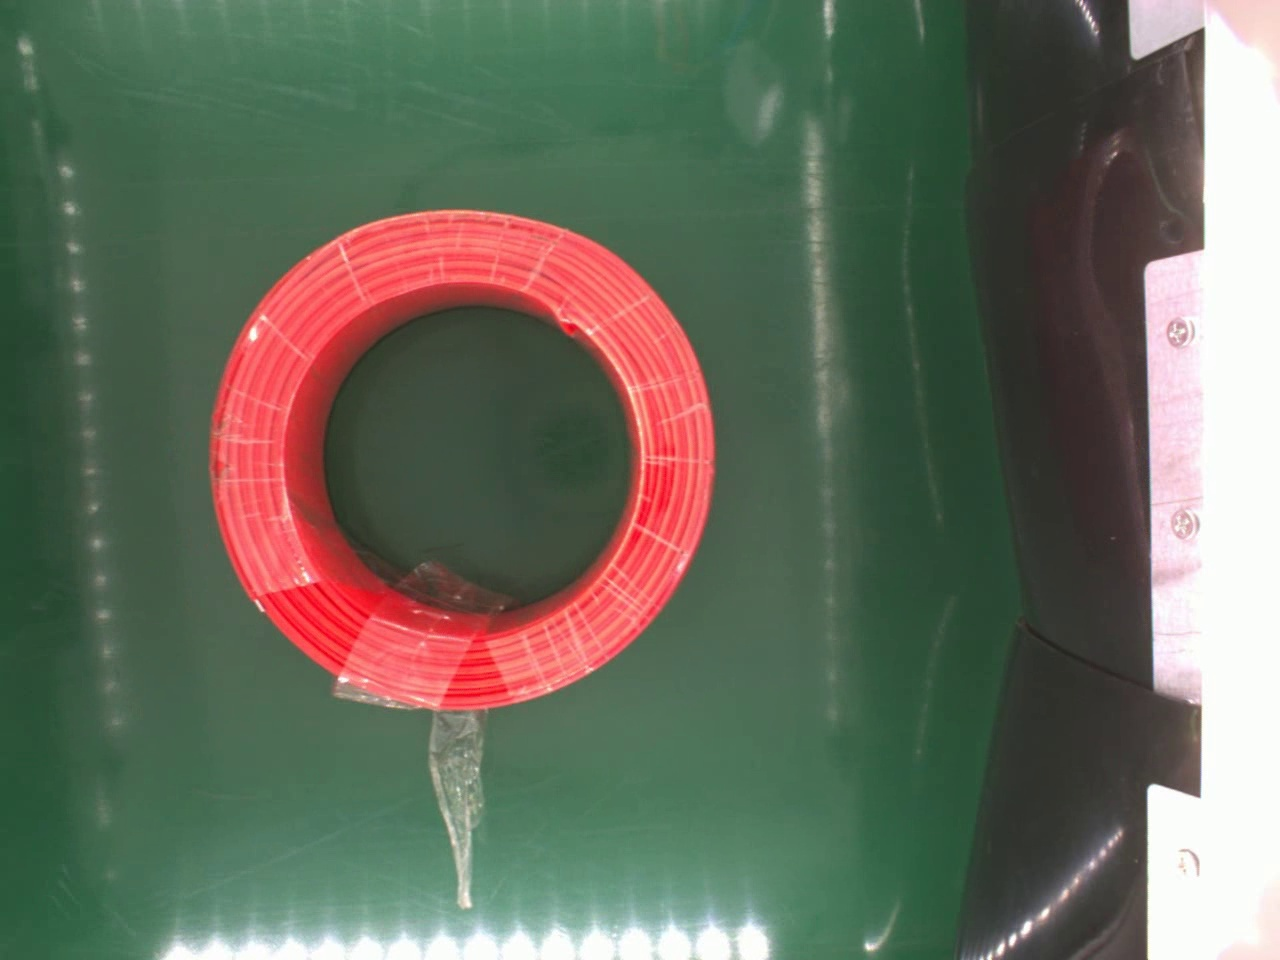red: (208, 206, 715, 713)
